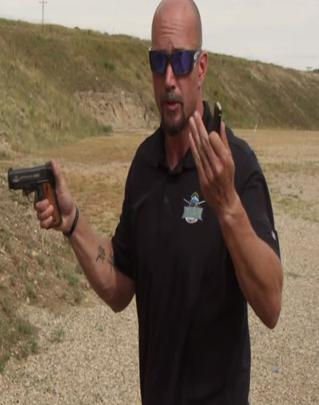pistol: (6, 158, 63, 231)
